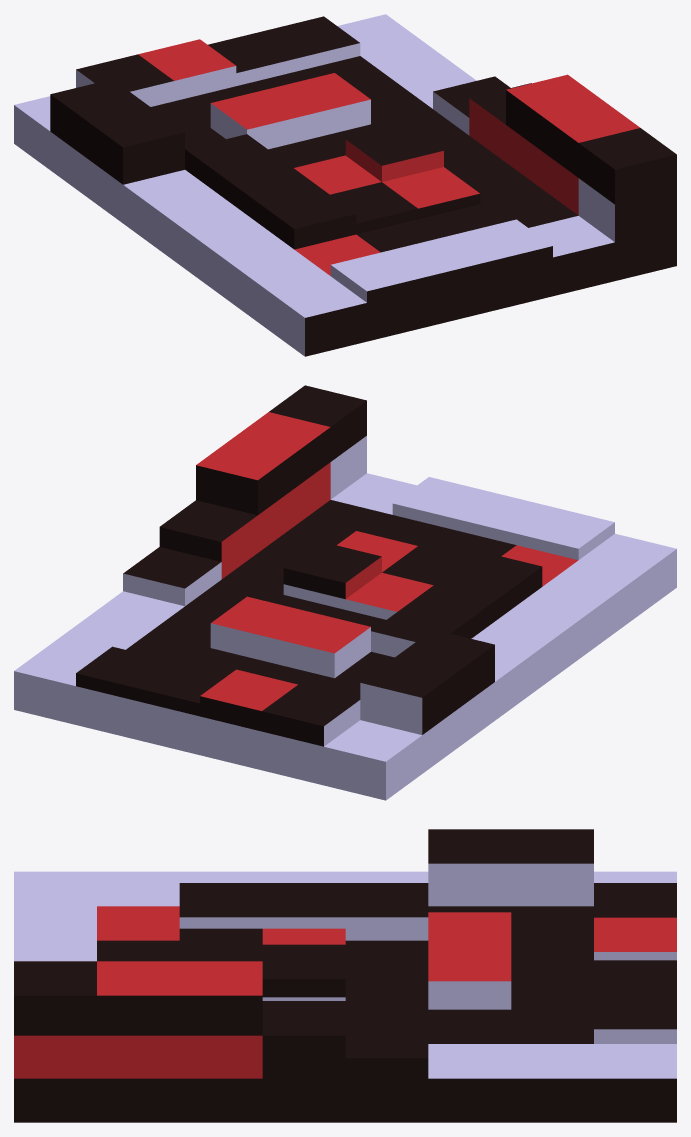
File: aethericCircuitFragment.fbx
The picture shows the model from 3 angles, top to bottom: view 1: azimuth 30°, elevation 25°; view 2: azimuth 150°, elevation 25°; view 3: azimuth 270°, elevation 25°; orthographic projection. The views are drawn at different scales.
Visible parts, largest first — view 1: Cube.001; view 2: Cube.001; view 3: Cube.001.
Boxes of the visible parts, x1,y1,x2,y2 form: Cube.001: (14,14,676,356); Cube.001: (14,385,676,800); Cube.001: (14,829,676,1122).
Size of the model in its own units: 37.72 by 10.81 by 51.12.
